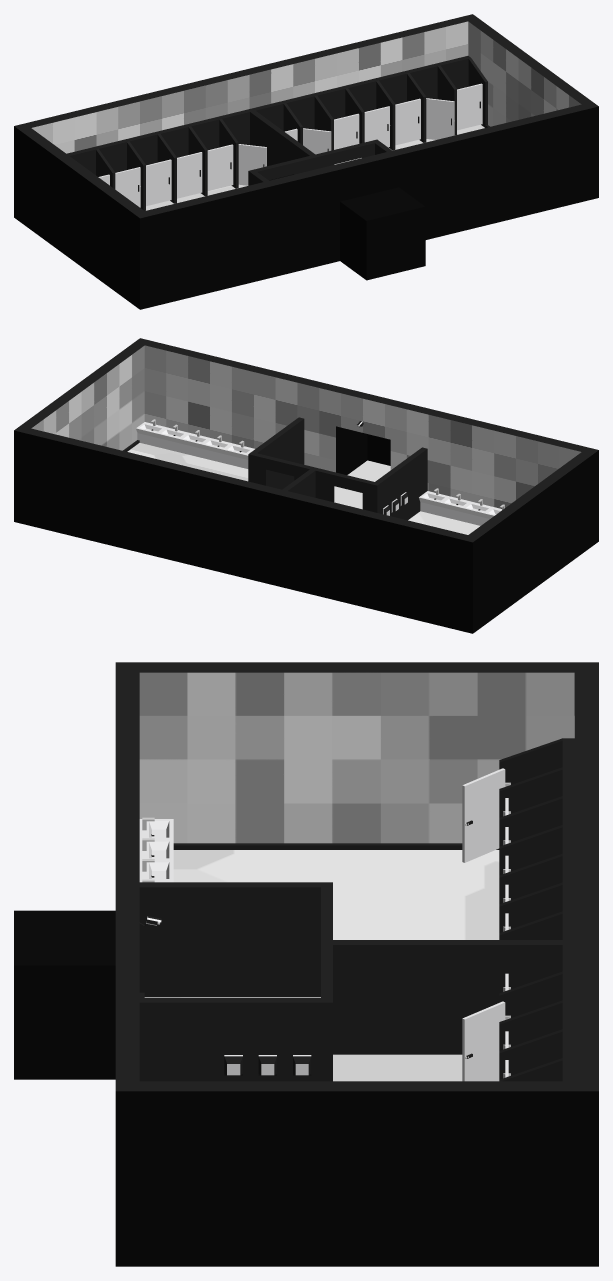
The model's file is Restroom_1x1x1.fbx.
The picture shows the model from 3 angles, top to bottom: view 1: azimuth 30°, elevation 25°; view 2: azimuth 150°, elevation 25°; view 3: azimuth 270°, elevation 25°; orthographic projection. The views are drawn at different scales.
Parts seen in each view (by area): view 1: Restroom_1x1x1; view 2: Restroom_1x1x1; view 3: Restroom_1x1x1.
Part boxes in pixels (<box>): Restroom_1x1x1: <box>14,14,598,309</box>; Restroom_1x1x1: <box>14,338,598,633</box>; Restroom_1x1x1: <box>14,662,598,1266</box>.
Size of the model in its own units: 42 by 24.2 by 8.
